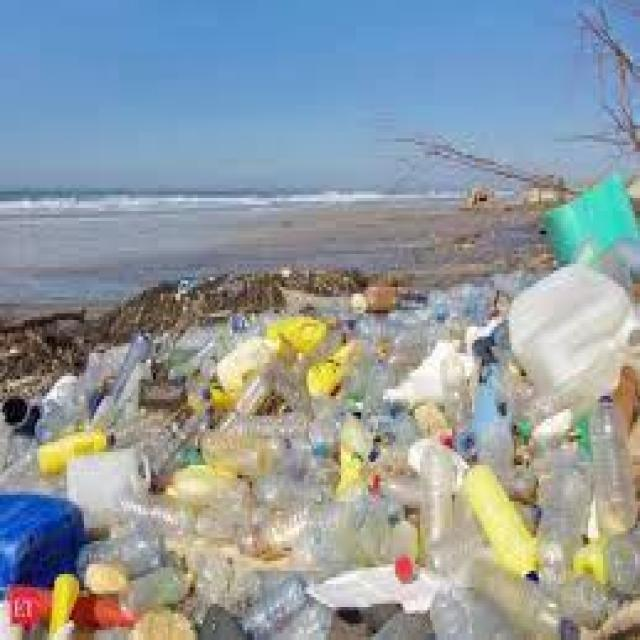heap: (95, 344, 619, 640)
